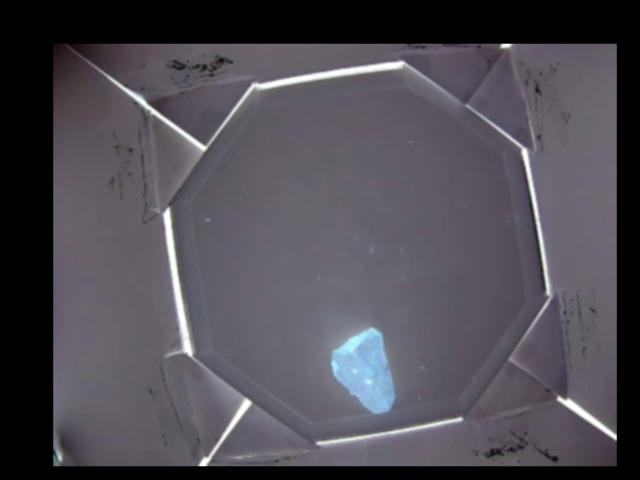Brisk: (330, 327, 394, 415)
